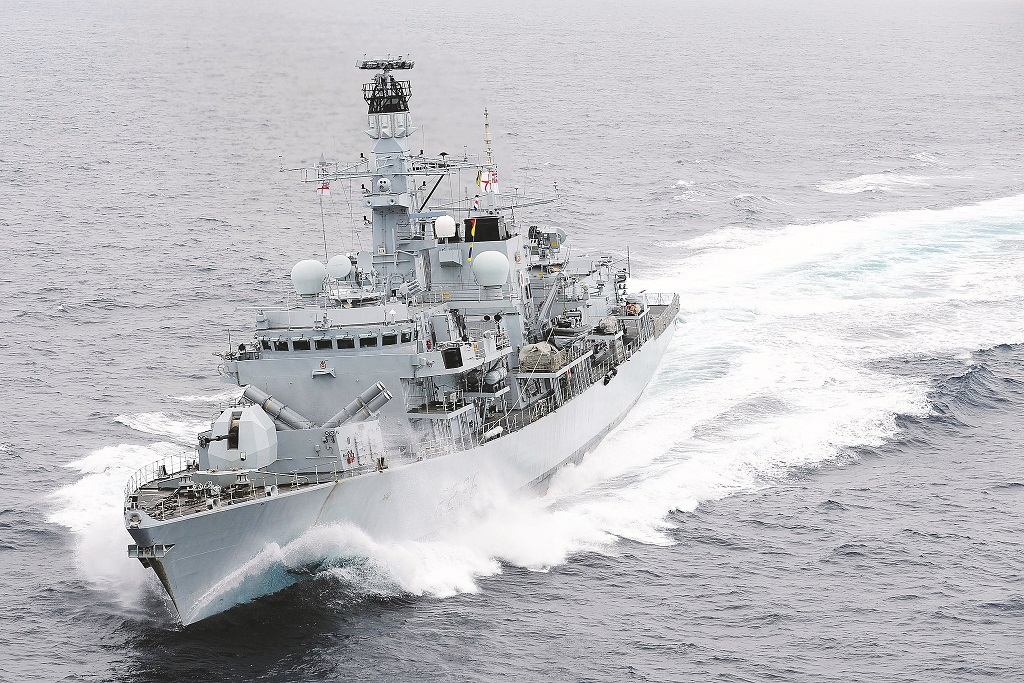warship: (120, 54, 686, 615)
